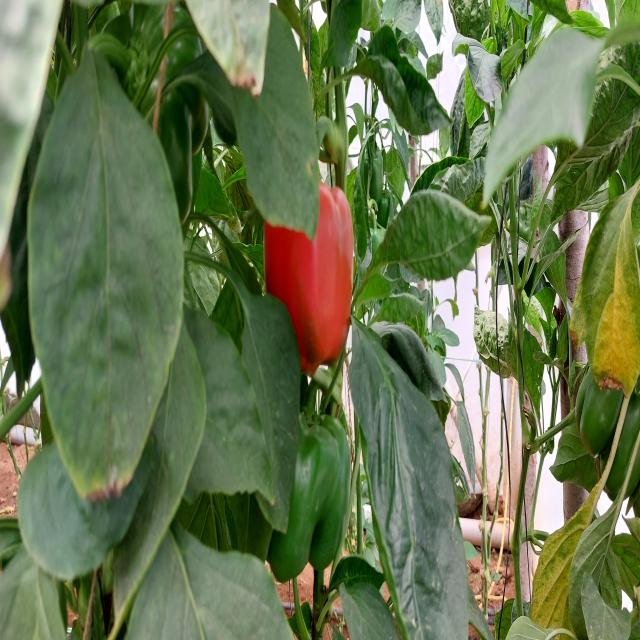Red-Ready-to-Harvest: (254, 168, 361, 386)
